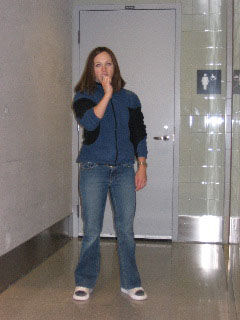person: (70, 46, 149, 303)
